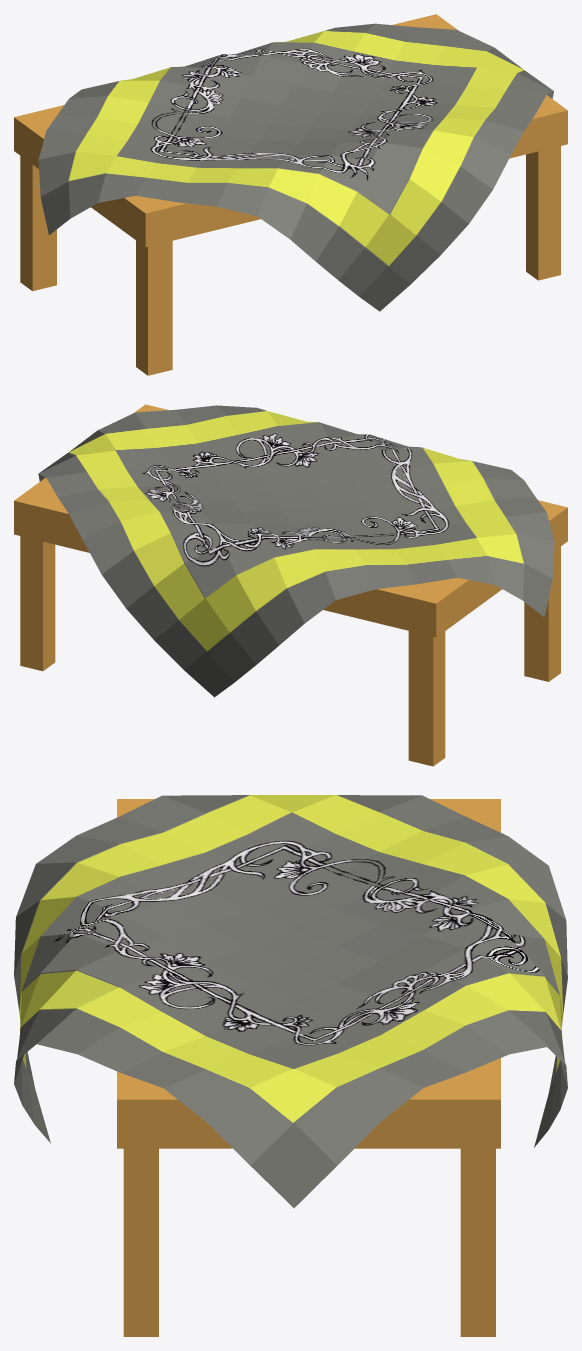
File: Table.fbx
The picture shows the model from 3 angles, top to bottom: view 1: azimuth 30°, elevation 25°; view 2: azimuth 150°, elevation 25°; view 3: azimuth 270°, elevation 25°; orthographic projection. The views are drawn at different scales.
Visible parts, largest first — view 1: Plane, Table; view 2: Plane, Table; view 3: Plane, Table.
Part boxes in pixels (x1,y1,x2,y2): Plane: (38,23,553,311); Table: (14,14,567,375); Plane: (38,405,554,697); Table: (14,404,567,766); Plane: (14,795,567,1207); Table: (117,799,500,1336).
Size of the model in its own units: 353 by 121 by 234.
2 materials, 1 textured.
